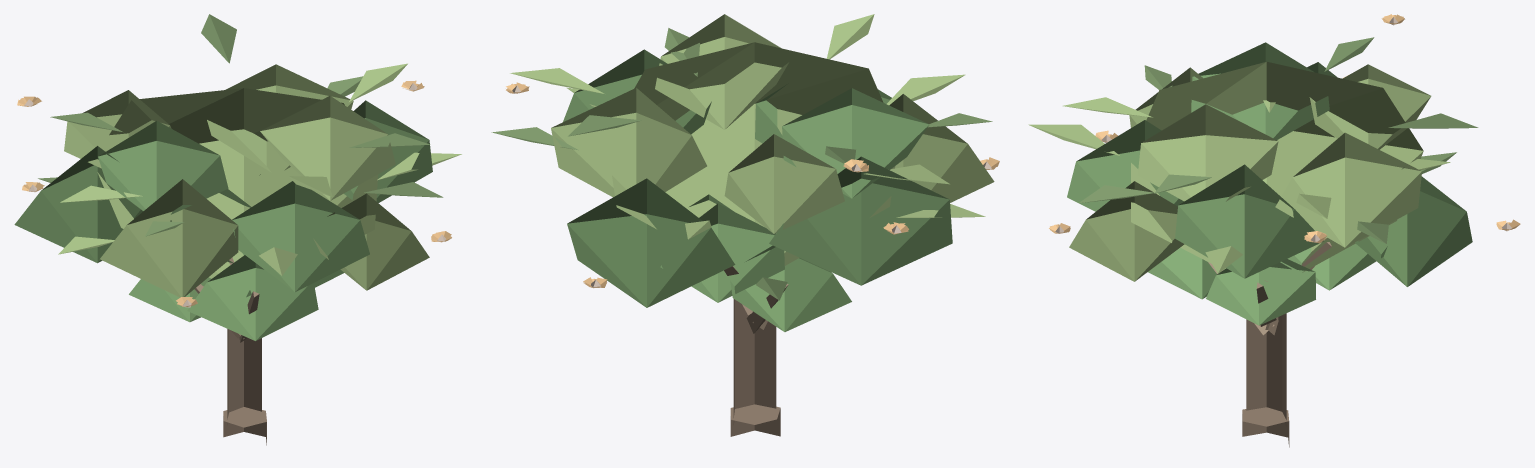
File: shu.fenghuang__spring.glb
3 renders of one model, left to right at view 1: azimuth 30°, elevation 25°; view 2: azimuth 150°, elevation 25°; view 3: azimuth 270°, elevation 25°, orthographic. The views are drawn at different scales.
Parts seen in each view (by area): view 1: shu.fenghuang__spring; view 2: shu.fenghuang__spring; view 3: shu.fenghuang__spring.
Part boxes in pixels (x1,y1,x2,y2): shu.fenghuang__spring: (14,14,461,445); shu.fenghuang__spring: (491,14,999,436); shu.fenghuang__spring: (1028,14,1520,447).
Size of the model in its own units: 14.49 by 12.07 by 14.67.
